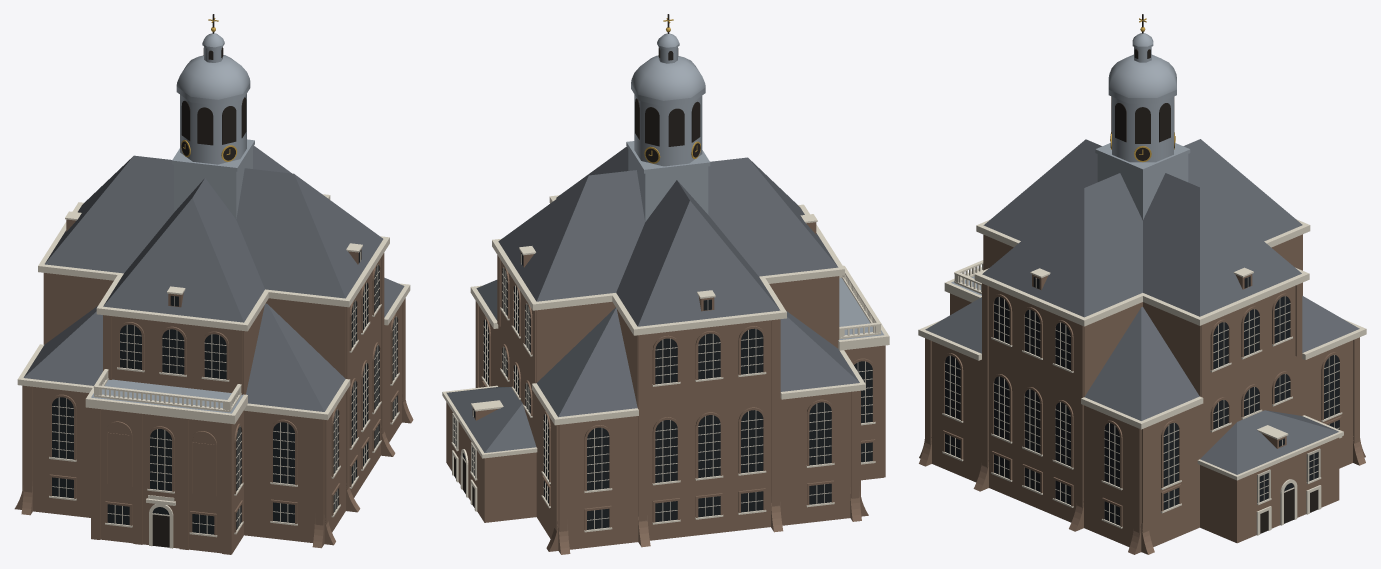
File: oosterkerk.glb
3 renders of one model, left to right at view 1: azimuth 30°, elevation 25°; view 2: azimuth 150°, elevation 25°; view 3: azimuth 270°, elevation 25°, orthographic. The views are drawn at different scales.
Parts seen in each view (by area): view 1: oosterkerk; view 2: oosterkerk; view 3: oosterkerk.
Part boxes in pixels (box(x1,y1,x2,y2)): oosterkerk: box(14, 14, 413, 554); oosterkerk: box(442, 14, 889, 554); oosterkerk: box(918, 14, 1366, 554).
Bounding box in the file's own units: 43.35 × 47.6 × 43.35.
